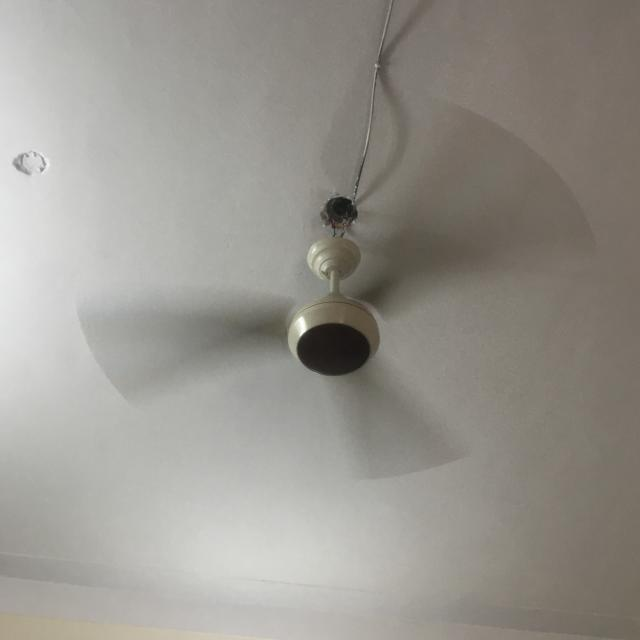on: (68, 84, 602, 490)
